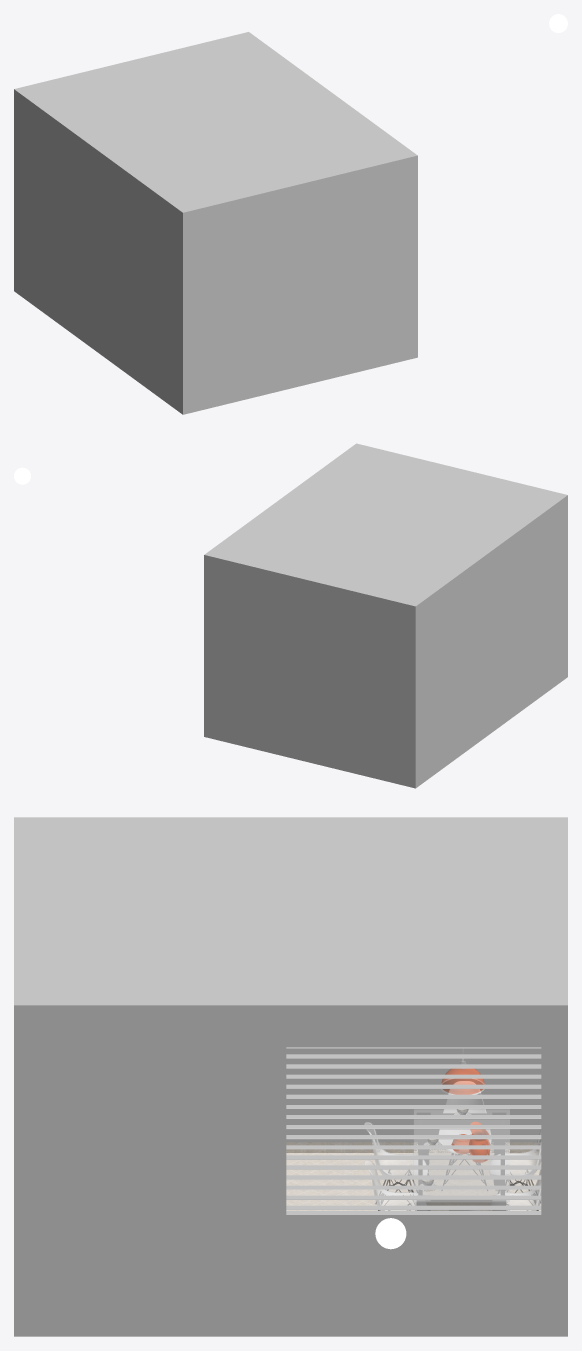
The model's file is breakfast_room_with_light.glb.
3 views of the same model, one above another, from view 1: azimuth 30°, elevation 25°; view 2: azimuth 150°, elevation 25°; view 3: azimuth 270°, elevation 25° (orthographic). The views are drawn at different scales.
Parts seen in each view (by area): view 1: breakfast_room_Wall_South, breakfast_room_Wall_West, breakfast_room_Ceiling, breakfast_room_Wall_East, breakfast_room_Wall_North; view 2: breakfast_room_Wall_North, breakfast_room_Wall_West, breakfast_room_Ceiling, breakfast_room_Wall_East, breakfast_room_Wall_South; view 3: breakfast_room_Wall_East, breakfast_room_Ceiling, Blinds_breakfast_room, breakfast_room_Wall_West, breakfast_room_Floor, tabletop_breakfast_room_Interior.069, Chair_seats_and_light_fixture_breakfast_room_Interior.004, Table_Legs_breakfast_room_Interior.003, breakfast_room_Wall_North, breakfast_room_Wall_South, Sphere, Light_shades_breakfast_room_Interior.010.
Boxes of the visible parts, x1,y1,x2,y2 form: breakfast_room_Wall_South: [185, 154, 412, 413]; breakfast_room_Wall_West: [14, 88, 188, 414]; breakfast_room_Ceiling: [23, 35, 408, 209]; breakfast_room_Wall_East: [244, 32, 417, 358]; breakfast_room_Wall_North: [19, 33, 245, 89]; breakfast_room_Wall_North: [209, 554, 412, 787]; breakfast_room_Wall_West: [411, 494, 567, 788]; breakfast_room_Ceiling: [212, 446, 559, 603]; breakfast_room_Wall_East: [204, 443, 360, 737]; breakfast_room_Wall_South: [359, 444, 562, 495]; breakfast_room_Wall_East: [14, 1001, 567, 1336]; breakfast_room_Ceiling: [24, 821, 557, 1000]; Blinds_breakfast_room: [286, 1047, 541, 1209]; breakfast_room_Wall_West: [14, 817, 567, 1152]; breakfast_room_Floor: [286, 1142, 540, 1210]; tabletop_breakfast_room_Interior.069: [414, 1109, 509, 1201]; Chair_seats_and_light_fixture_breakfast_room_Interior.004: [364, 1049, 541, 1210]; Table_Legs_breakfast_room_Interior.003: [417, 1113, 505, 1210]; breakfast_room_Wall_North: [558, 821, 567, 1000]; breakfast_room_Wall_South: [14, 821, 23, 1000]; Sphere: [375, 1218, 406, 1249]; Light_shades_breakfast_room_Interior.010: [441, 1068, 484, 1094].
Size of the model in its own units: 25.44 by 9.85 by 14.93.
16 materials, 2 textured.
